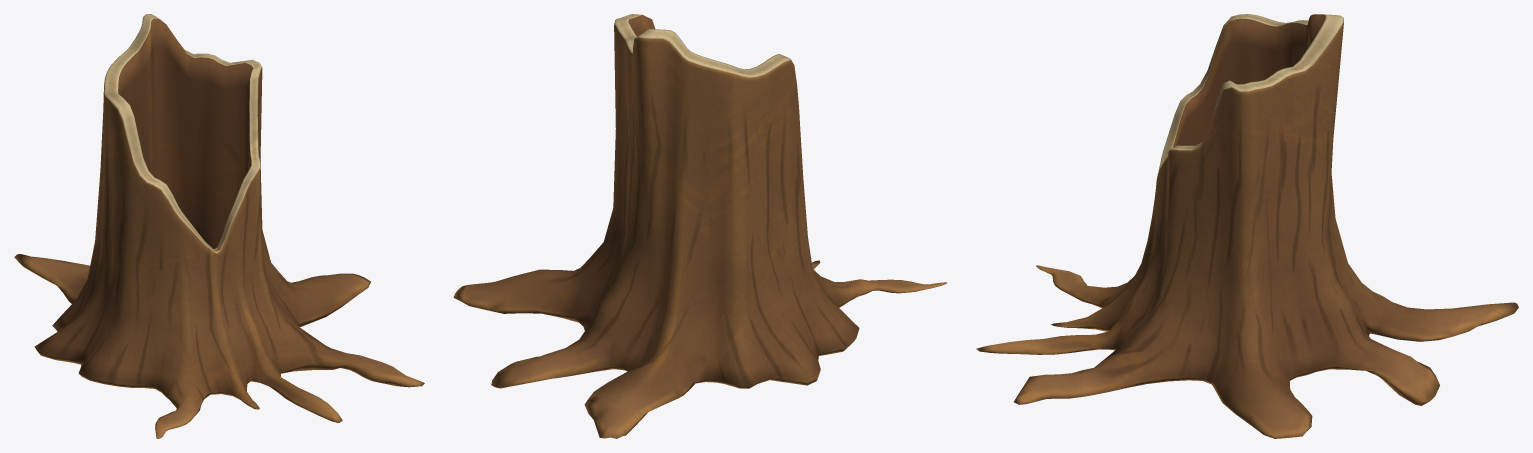
The model's file is cartoon_stump_v6.fbx.
3 views of the same model, side by side, from view 1: azimuth 30°, elevation 25°; view 2: azimuth 150°, elevation 25°; view 3: azimuth 270°, elevation 25° (orthographic). The views are drawn at different scales.
Parts seen in each view (by area): view 1: cartoon_tree_stump_v6; view 2: cartoon_tree_stump_v6; view 3: cartoon_tree_stump_v6.
Part boxes in pixels (x1,y1,x2,y2): cartoon_tree_stump_v6: (14, 14, 424, 438); cartoon_tree_stump_v6: (453, 14, 946, 438); cartoon_tree_stump_v6: (976, 14, 1518, 438).
Size of the model in its own units: 183 by 168 by 244.
